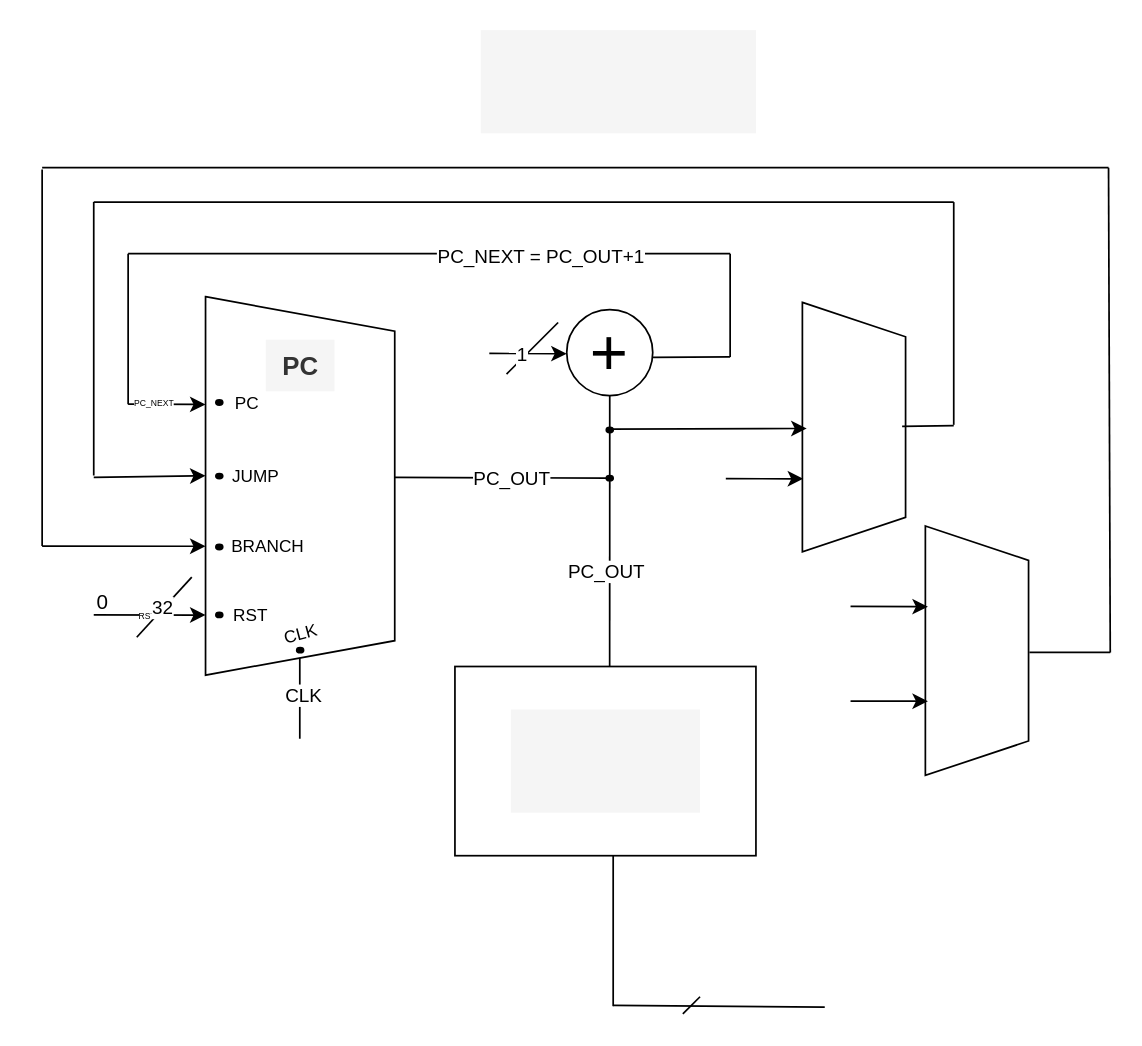
Some shapes in this 1142 by 1046 pixel diagram are drawn without their labels. The shapes that lost their labels are listed below. From the top down, each one's centre as x and y in pixels, then its label:
[617,80]: FETCH
[604,760]: IMEM
